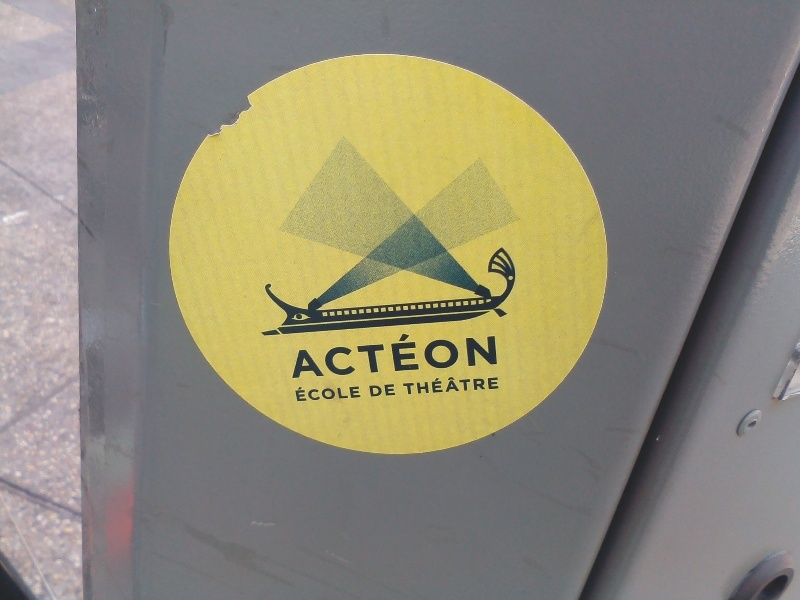text: (289, 326, 304, 379), (305, 326, 320, 379), (321, 326, 336, 379), (337, 326, 352, 379), (353, 326, 368, 379), (369, 326, 384, 379), (385, 326, 400, 379), (401, 326, 416, 379), (417, 326, 432, 379), (433, 326, 448, 379), (449, 326, 464, 379), (465, 326, 480, 379), (481, 326, 496, 379), (497, 326, 504, 379), (417, 373, 432, 396), (433, 373, 448, 396), (449, 373, 464, 396), (465, 373, 480, 396), (481, 373, 496, 396), (402, 373, 416, 396), (305, 384, 320, 403), (321, 384, 336, 403), (337, 384, 352, 403), (353, 384, 366, 403), (369, 383, 384, 398), (284, 326, 288, 379), (293, 384, 304, 403), (385, 383, 396, 398), (497, 373, 500, 396)
